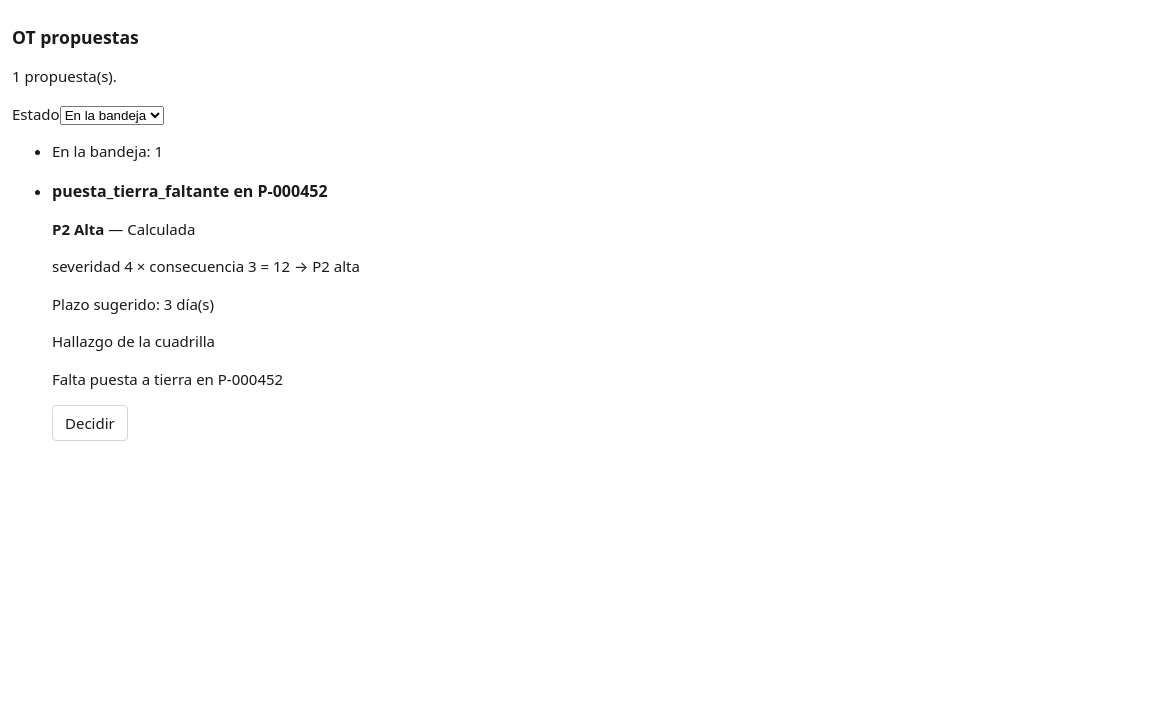
Scenario: las tres decisiones › el motivo de rechazo es un selector del catálogo y nunca un campo libre
Later steps or results of the test are not shown.
Click the button "Decidir" at (90,423), box [52,405,128,441]
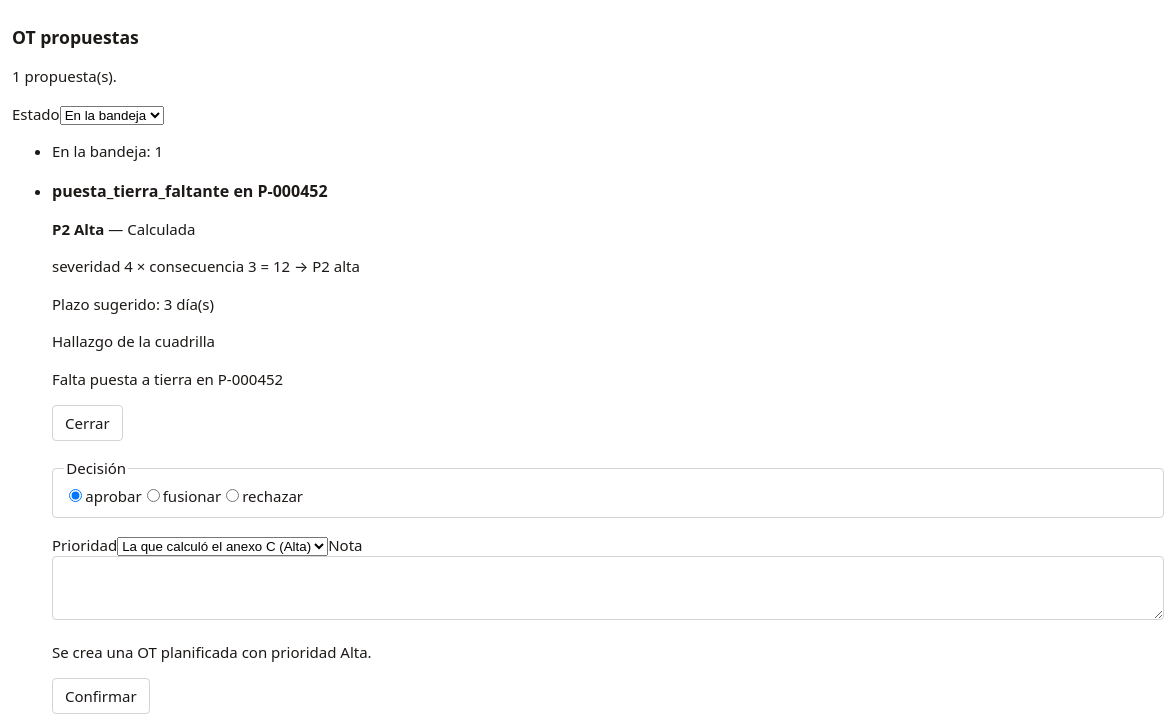
Click the radio button labelled "rechazar" at (233,495), box [226,489,239,502]
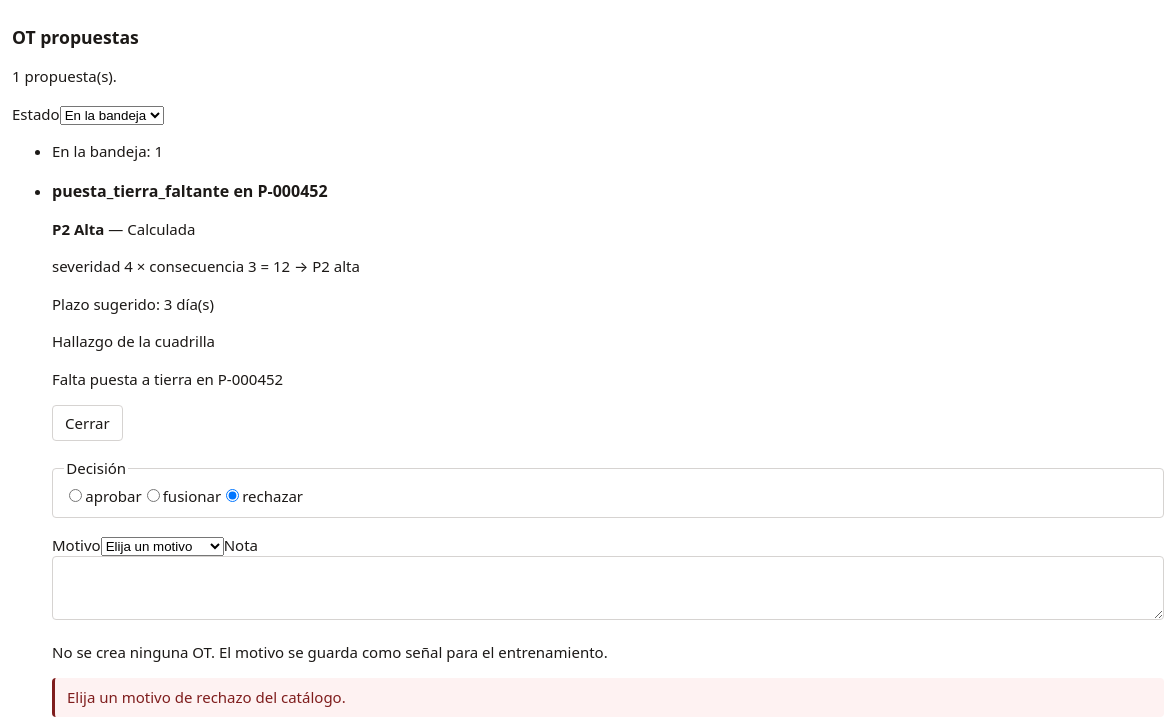
Select "Ya está resuelto" in the dropdown labelled "Motivo" at (162,546), box [101,537,224,556]
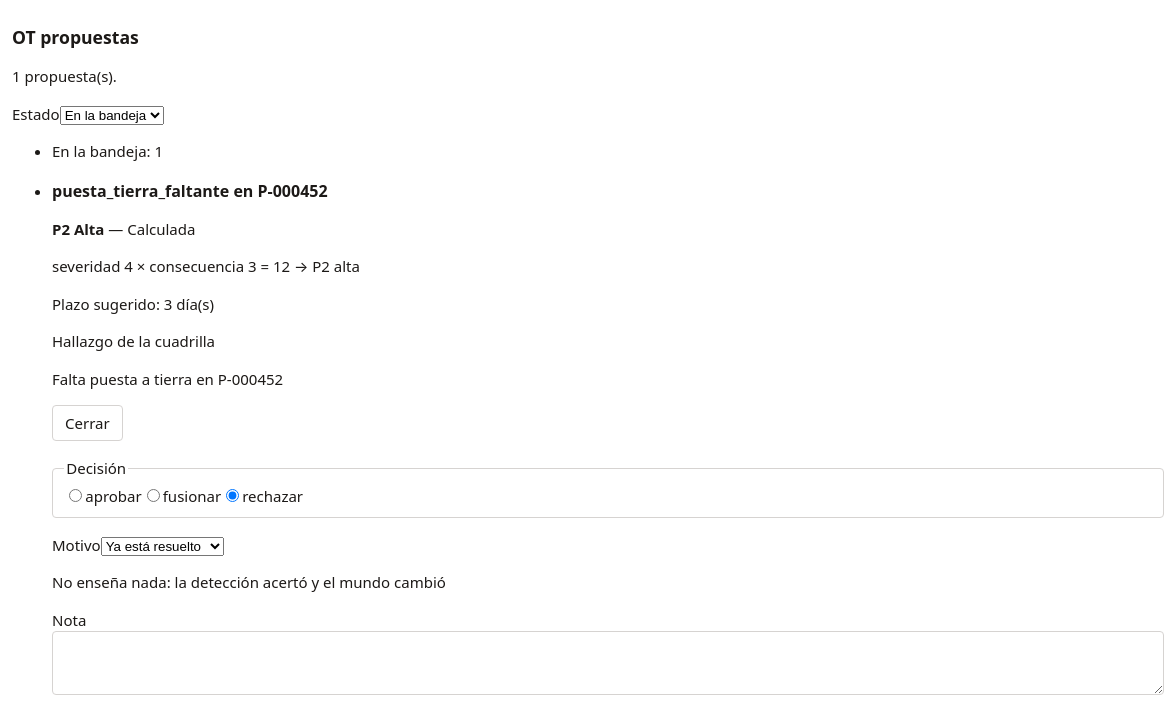
Now the text "No enseña nada: la detección acertó y el mundo cambió" is shown, box [52,572,446,592]
